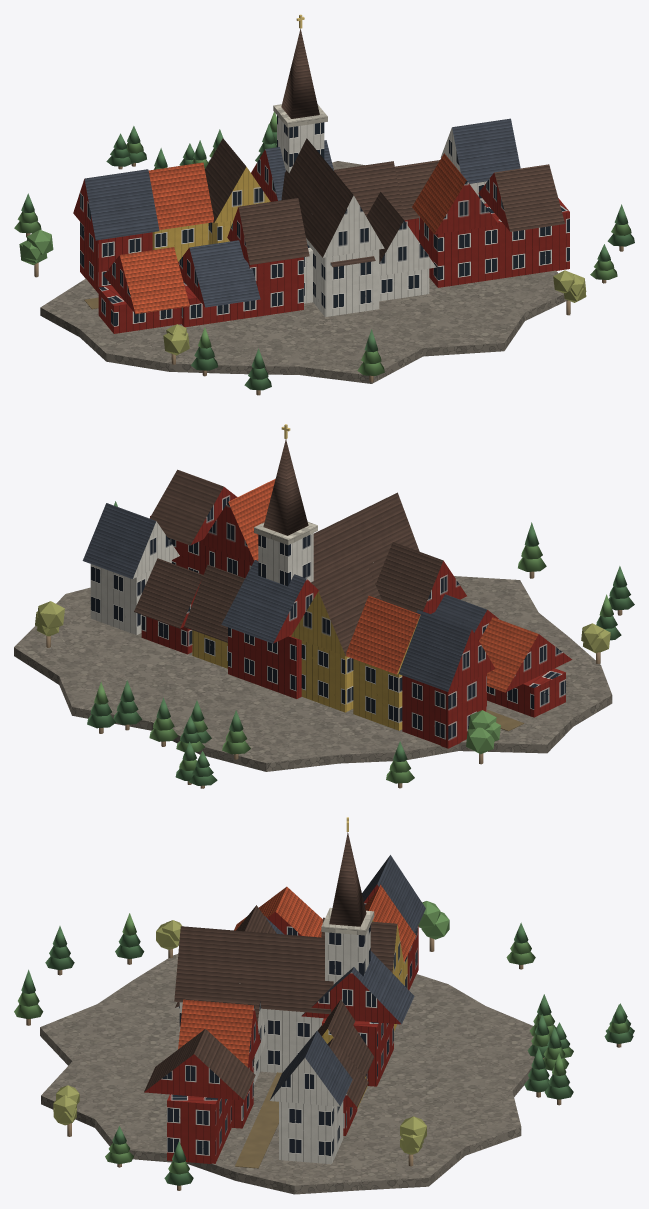
File: city_nordic_town.glb
3 renders of one model, top to bottom at view 1: azimuth 30°, elevation 25°; view 2: azimuth 150°, elevation 25°; view 3: azimuth 270°, elevation 25°, orthographic. The views are drawn at different scales.
Parts seen in each view (by area): view 1: city_nordic_town; view 2: city_nordic_town; view 3: city_nordic_town.
Part boxes in pixels (bbox=[...]): city_nordic_town: bbox=[14, 14, 634, 395]; city_nordic_town: bbox=[14, 424, 634, 788]; city_nordic_town: bbox=[14, 817, 634, 1194].
Bounding box in the file's own units: 2.05 × 0.94 × 2.06.
Materials: 14 (9 with a texture image).
